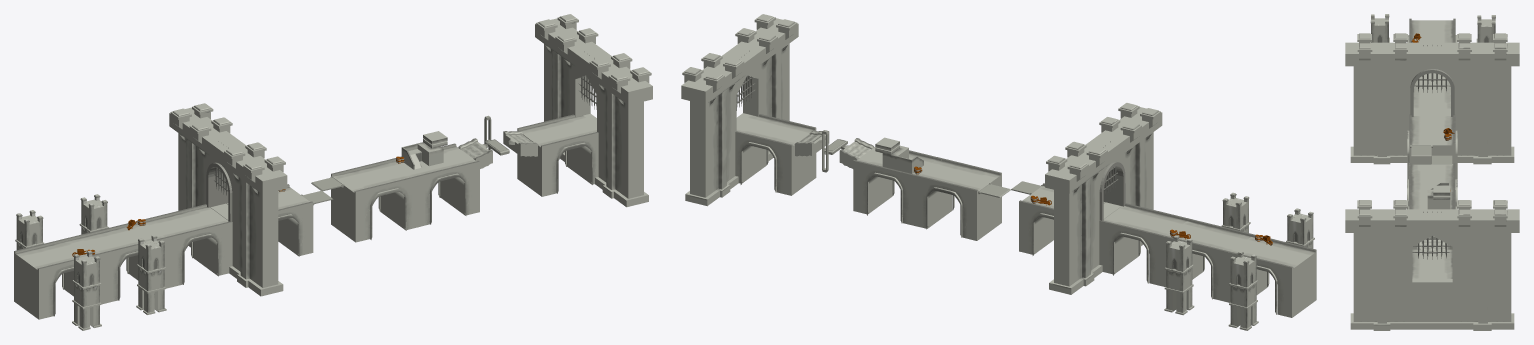
3 renders of one model, left to right at view 1: azimuth 30°, elevation 25°; view 2: azimuth 150°, elevation 25°; view 3: azimuth 270°, elevation 25°, orthographic. The views are drawn at different scales.
Parts seen in each view (by area): view 1: ลูกบาศก์.007, ลูกบาศก์.003, Cube.005, Cube.008, Cube.002, Cube, Cube.007, Cube.001, Cube.003, ลูกบาศก์.004, ลูกบาศก์.002, Cube.009 (+5 smaller); view 2: ลูกบาศก์.007, ลูกบาศก์.003, Cube.005, Cube.008, Cube.002, Cube, Cube.007, Cube.001, ลูกบาศก์.006, ลูกบาศก์.005, Cube.003, Cube.009 (+5 smaller); view 3: ลูกบาศก์.007, ลูกบาศก์.003, Cube.003, Cube.005, Cube.008, Cube, Cube.002, Cube.009, ลูกบาศก์.010, Cube.007, ลูกบาศก์.002, ลูกบาศก์.005 (+5 smaller).
Part boxes in pixels (x1,y1,x2,y2): ลูกบาศก์.007: (535, 14, 652, 207); ลูกบาศก์.003: (169, 103, 287, 296); Cube.005: (331, 158, 420, 242); Cube.008: (517, 114, 598, 196); Cube.002: (145, 204, 232, 287); Cube: (14, 235, 103, 319); Cube.007: (392, 143, 479, 226); Cube.001: (79, 221, 167, 303); Cube.003: (226, 184, 313, 256); ลูกบาศก์.004: (136, 235, 166, 314); ลูกบาศก์.002: (72, 250, 101, 330); Cube.009: (401, 131, 447, 169); ลูกบาศก์.007: (681, 14, 798, 206); ลูกบาศก์.003: (1045, 103, 1162, 294); Cube.005: (914, 157, 1001, 240); Cube.008: (735, 114, 816, 195); Cube.002: (1099, 203, 1187, 286); Cube: (1228, 234, 1316, 317); Cube.007: (853, 147, 941, 226); Cube.001: (1163, 218, 1251, 302); ลูกบาศก์.006: (1164, 235, 1194, 315); ลูกบาศก์.005: (1228, 251, 1258, 330); Cube.003: (1019, 183, 1105, 255); Cube.009: (875, 137, 923, 173); ลูกบาศก์.007: (1345, 200, 1519, 330); ลูกบาศก์.003: (1345, 33, 1519, 164); Cube.003: (1407, 114, 1457, 179); Cube.005: (1407, 163, 1457, 206); Cube.008: (1412, 249, 1452, 278); Cube: (1407, 18, 1457, 42); Cube.002: (1413, 80, 1450, 108); Cube.009: (1427, 182, 1450, 209); ลูกบาศก์.010: (1410, 69, 1454, 116); Cube.007: (1407, 190, 1457, 249); ลูกบาศก์.002: (1370, 14, 1389, 42); ลูกบาศก์.005: (1476, 15, 1495, 42).
Size of the model in its own units: 54397 by 11371 by 15039.
11 materials, 11 textured.
